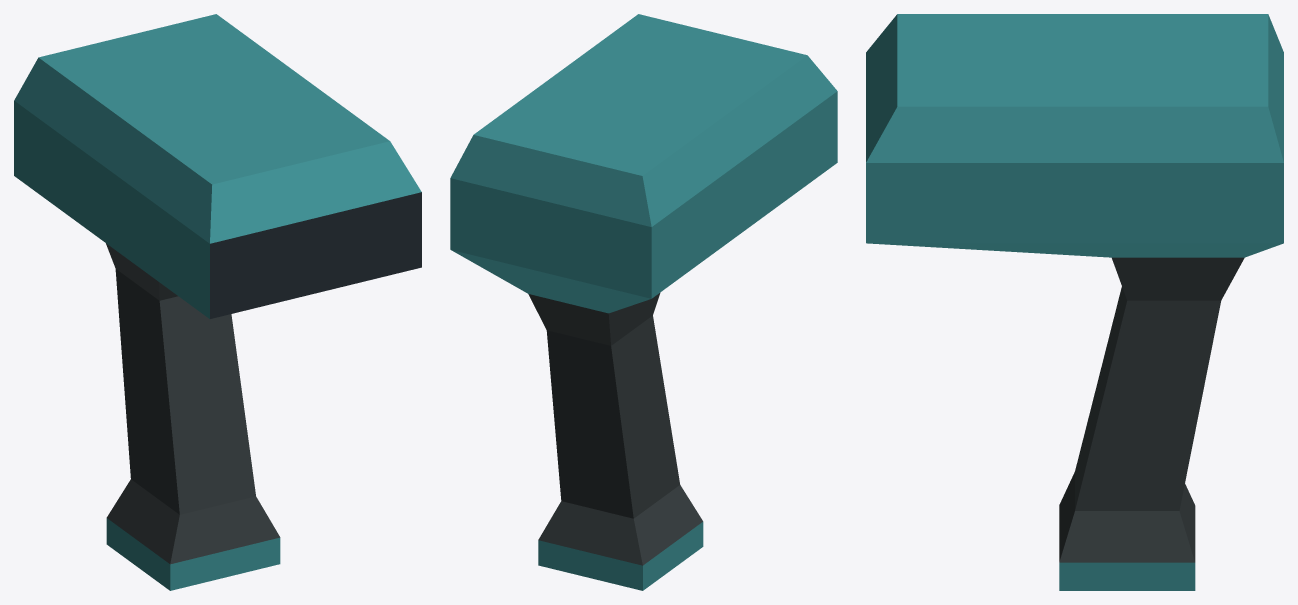
3 renders of one model, left to right at view 1: azimuth 30°, elevation 25°; view 2: azimuth 150°, elevation 25°; view 3: azimuth 270°, elevation 25°, orthographic. The views are drawn at different scales.
Visible parts, largest first — view 1: ContinuousFlaredHeelCantedGripAndProjectingScanHead; view 2: ContinuousFlaredHeelCantedGripAndProjectingScanHead; view 3: ContinuousFlaredHeelCantedGripAndProjectingScanHead.
Boxes of the visible parts, <box> form: ContinuousFlaredHeelCantedGripAndProjectingScanHead: <box>14,14,421,590</box>; ContinuousFlaredHeelCantedGripAndProjectingScanHead: <box>450,14,837,590</box>; ContinuousFlaredHeelCantedGripAndProjectingScanHead: <box>866,14,1283,590</box>.
Bounding box in the file's own units: 0.1 × 0.212 × 0.16.
